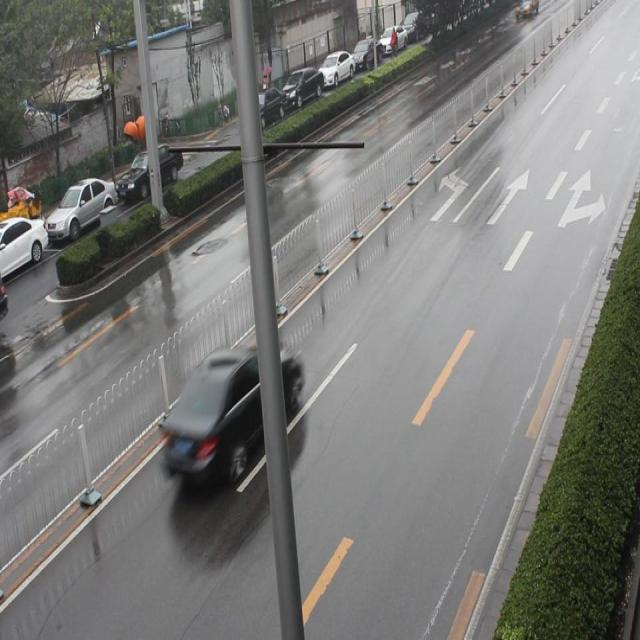car: (162, 328, 304, 487)
